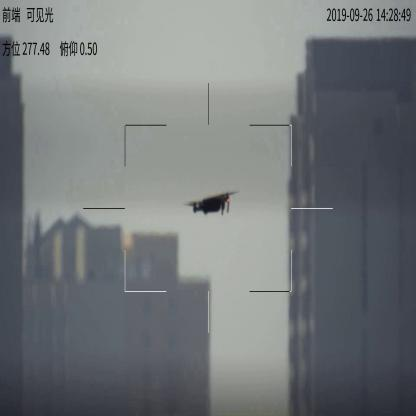uav: (182, 189, 235, 219)
